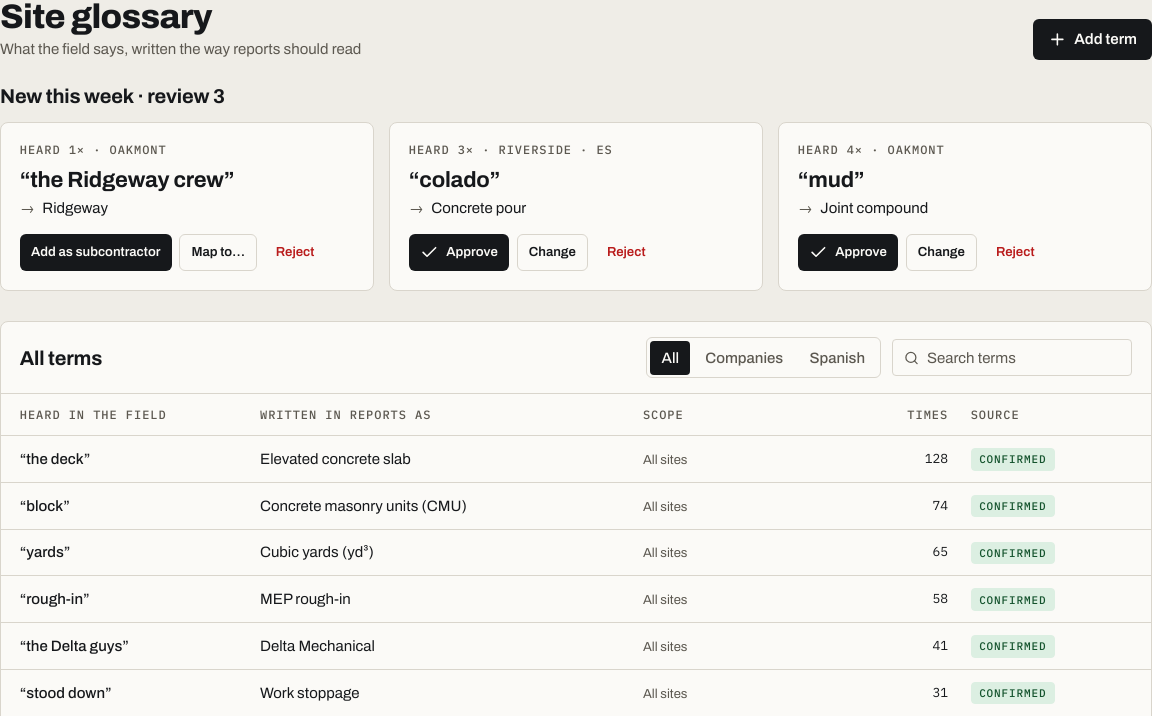
Test: GlossaryPage (demo data) › approves, changes and rejects review terms
Click the button "Approve" below "Heard 4× · Oakmont" at (848, 253), box [798,234,898,271]
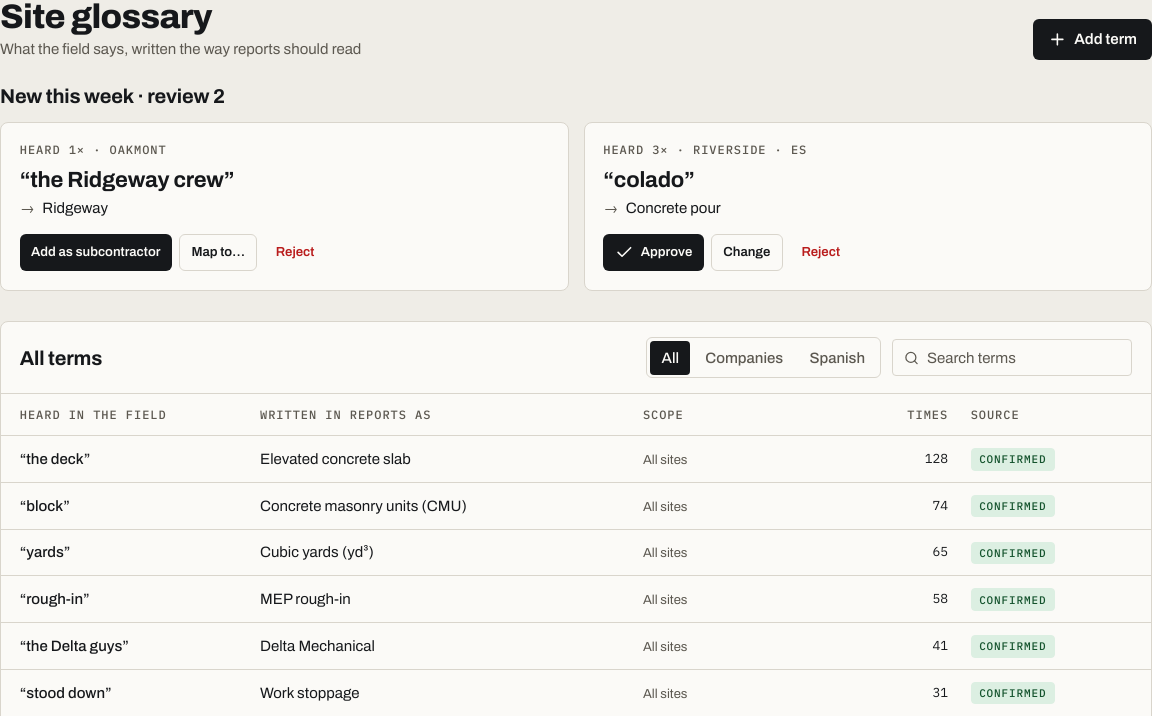
Expected: the text "“mud”" is not shown
Click the button "Change" at (747, 253), box [711,234,783,271]
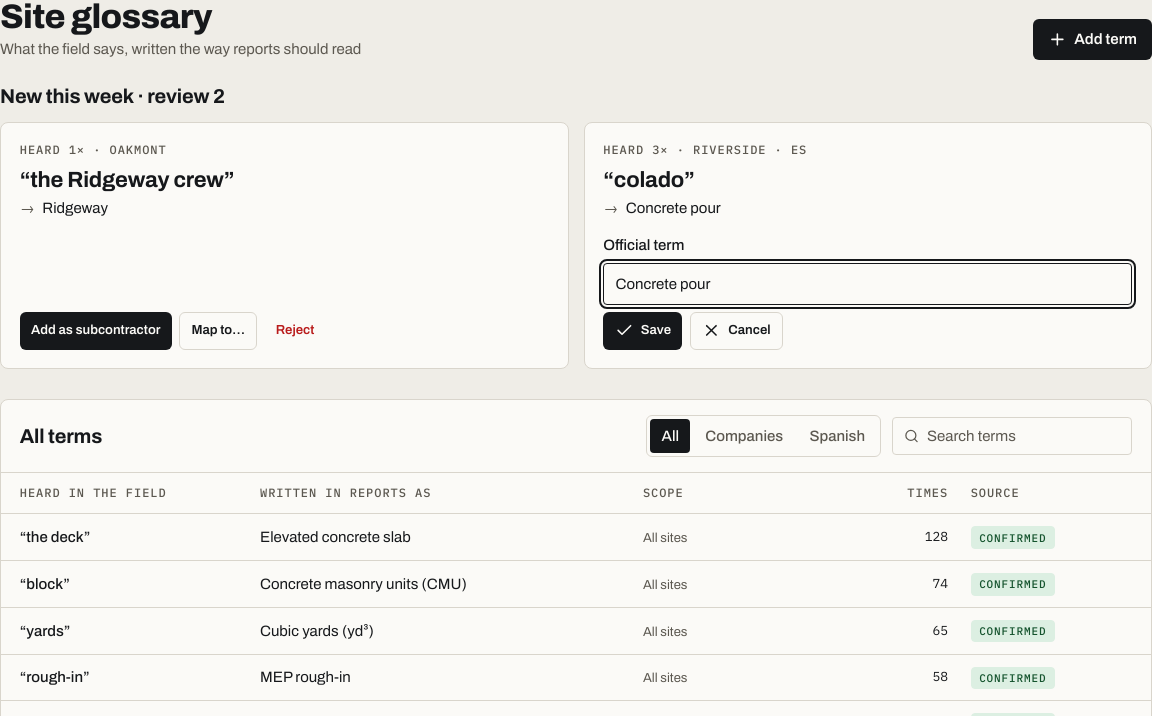
Replace the text in the field labelled "Official term" with "Concrete placement" at (868, 284), box [603,263,1132,305]
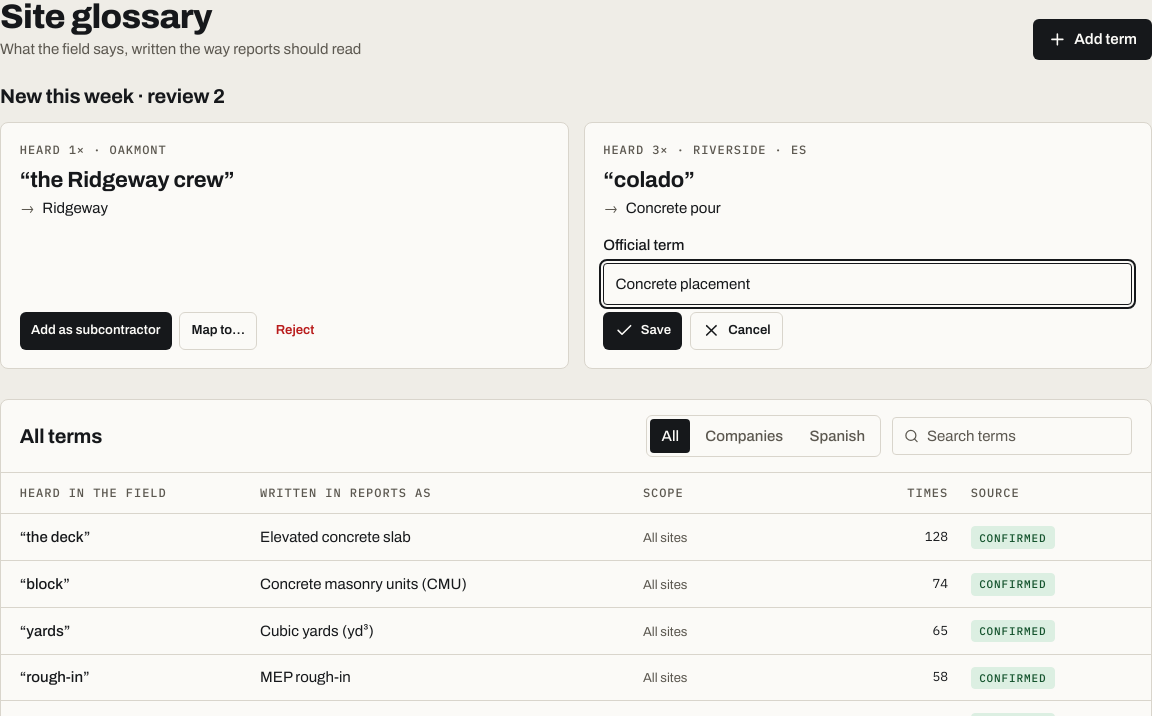
Click the button "Save" at (643, 331), box [603,312,682,350]
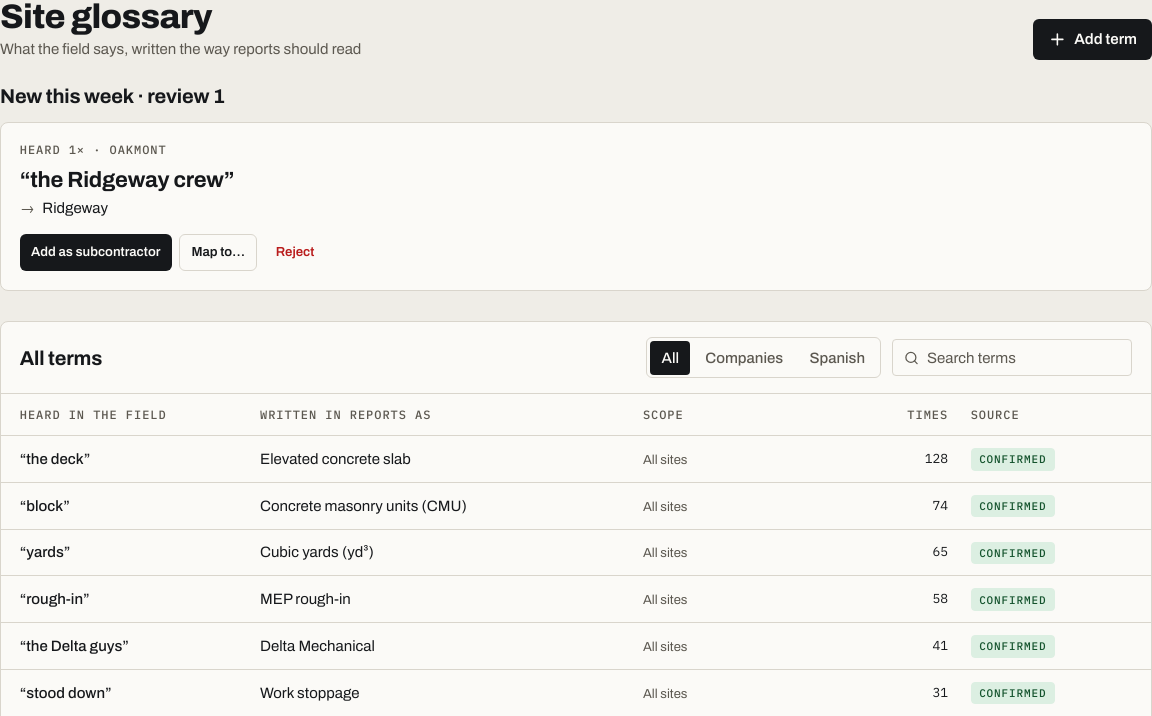
Expected: the text "“colado”" is not shown
Click the button "Reject" at (295, 253), box [265,234,326,271]
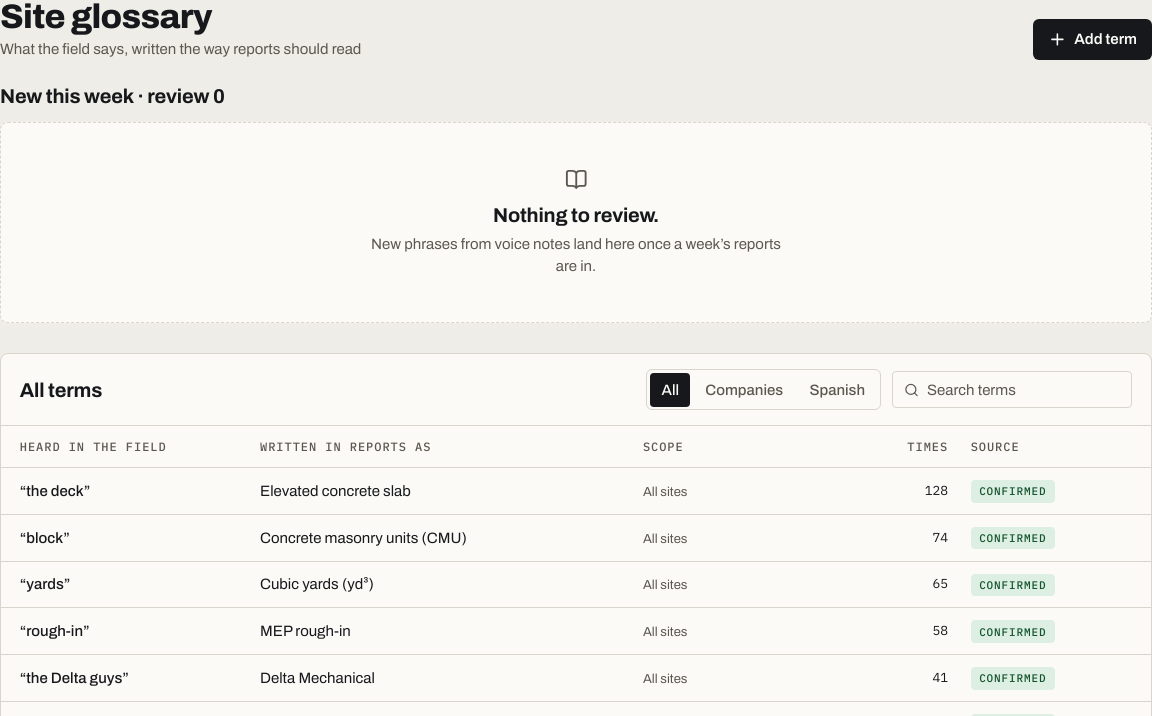
Expected: the heading "New this week · review 0" is shown, [0,85,225,107]
Expected: the heading "Nothing to review." is shown, [493,201,659,229]
